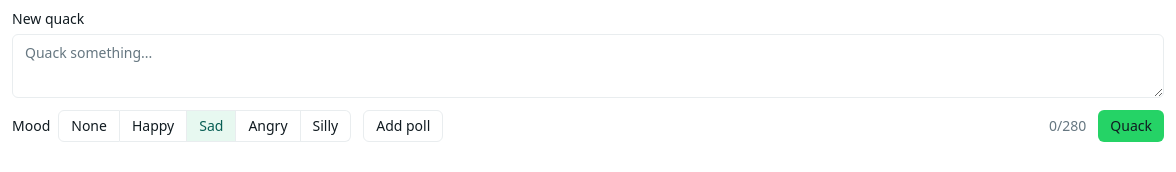
QuackForm › starts on, and returns to, the user's default mood
Expected: the radio button labelled "sad" is checked, [187,110,236,142]
Click the radio button labelled "angry". click: {"x": 268, "y": 126}
box: [236,110,300,142]
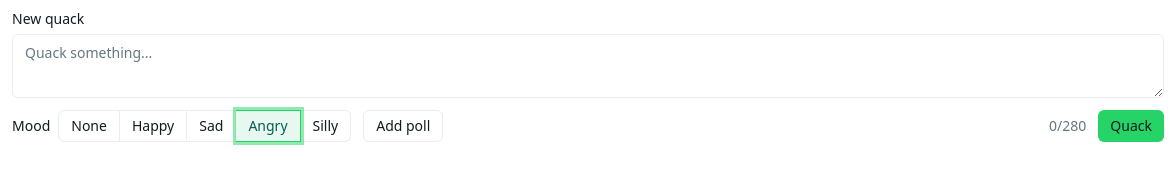
Type "hello" into the text box labelled "New quack". click: {"x": 588, "y": 66}
box: [12,34,1164,98]
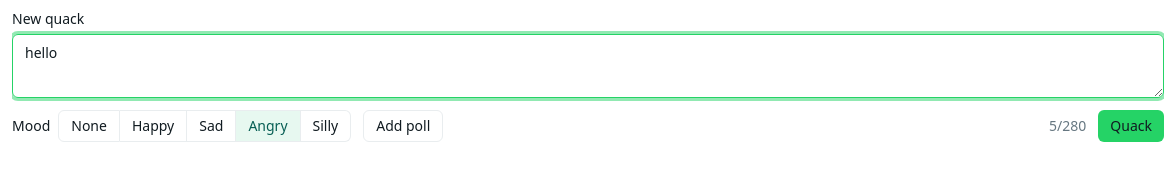
Click the button "Quack". click: {"x": 1131, "y": 126}
box: [1098,110,1164,142]
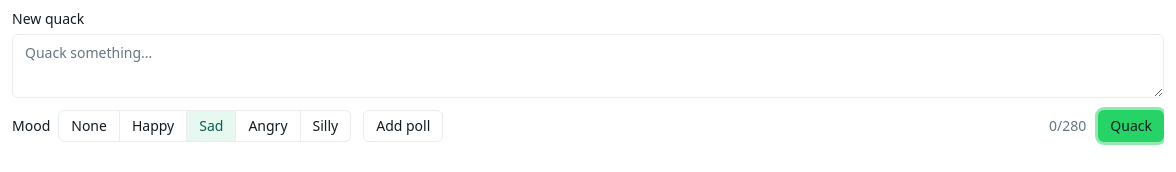
Result: the radio button labelled "sad" is checked at [187,110,236,142]
